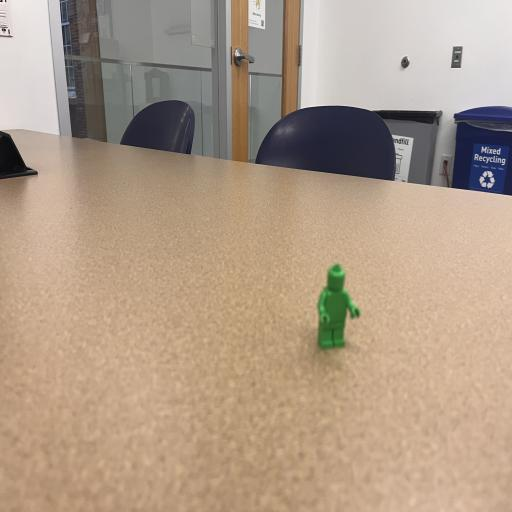Lego-Minifig: (318, 264, 360, 349), (328, 264, 345, 291)
